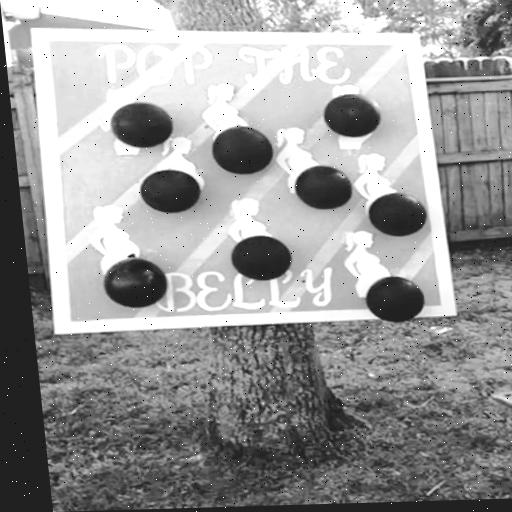balloon: (102, 256, 171, 310), (111, 100, 179, 150), (136, 168, 205, 214), (211, 124, 275, 172), (370, 190, 431, 240), (365, 276, 427, 325), (232, 234, 296, 281), (294, 165, 358, 211), (325, 93, 386, 138)
